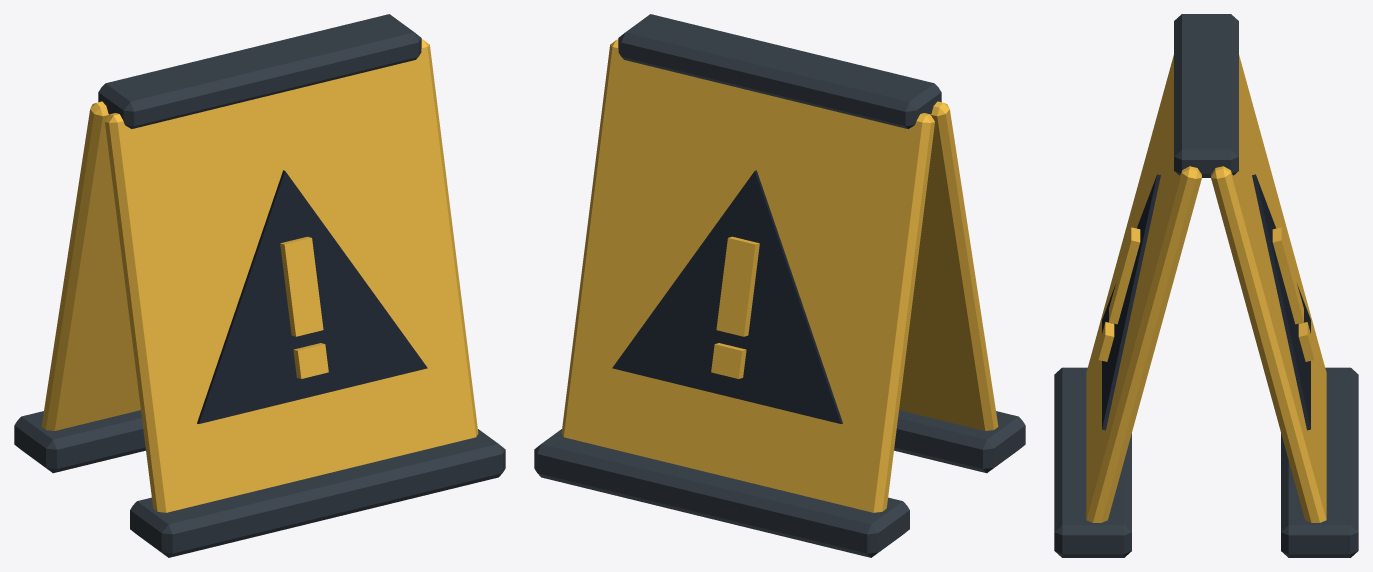
Rendered from Prop_WarningPlacard.fbx.
3 views of the same model, side by side, from view 1: azimuth 30°, elevation 25°; view 2: azimuth 150°, elevation 25°; view 3: azimuth 270°, elevation 25° (orthographic). The views are drawn at different scales.
Parts seen in each view (by area): view 1: Amber, FrameDark, Slate; view 2: Amber, FrameDark, Slate; view 3: Amber, FrameDark, Slate.
Part boxes in pixels (x1,y1,x2,y2): Amber: (41, 39, 478, 512); FrameDark: (14, 14, 505, 557); Slate: (197, 170, 427, 423); Amber: (561, 39, 998, 512); FrameDark: (534, 14, 1025, 557); Slate: (612, 170, 842, 423); Amber: (1086, 55, 1326, 522); FrameDark: (1054, 14, 1358, 557); Slate: (1102, 174, 1310, 430).
Size of the model in its own units: 1.5 by 1.69 by 1.17.
